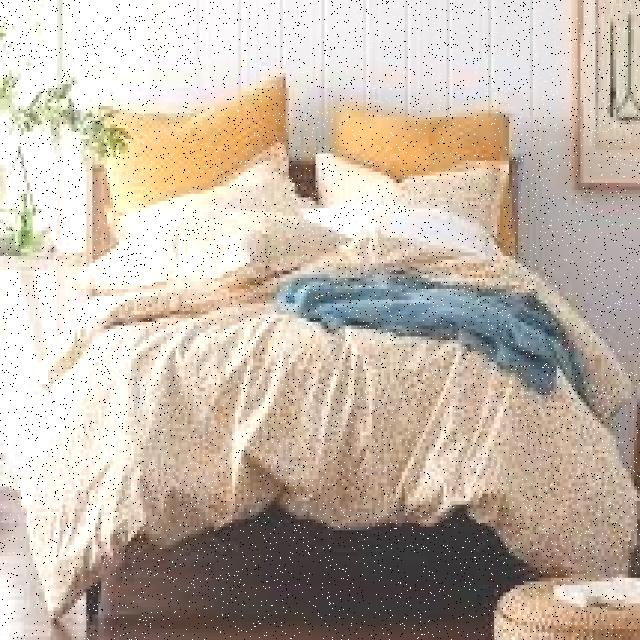bed: (46, 84, 582, 512)
